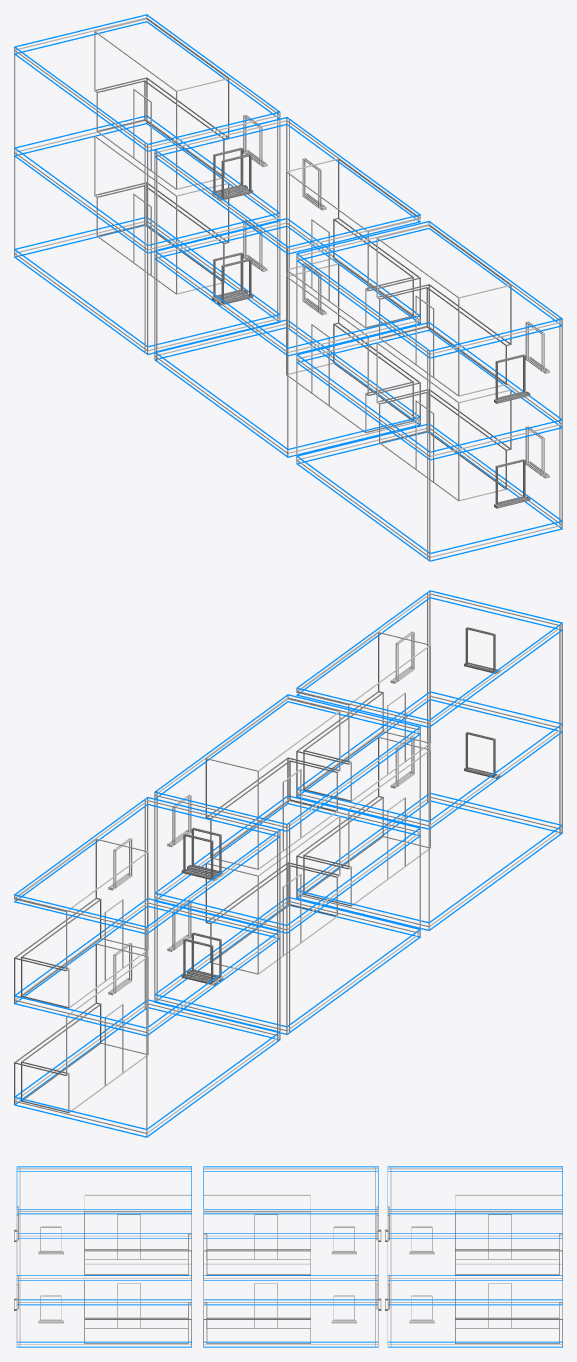
File: wireframebuilding.fbx
3 views of the same model, one above another, from view 1: azimuth 30°, elevation 25°; view 2: azimuth 150°, elevation 25°; view 3: azimuth 270°, elevation 25° (orthographic). The views are drawn at different scales.
Visible parts, largest first — view 1: pCube456, pCube193, pCube306, pCube593, pCube267, pCube443, pCube268, pCube448, pCube266, pCube263, pCube265, pCube264 (+15 smaller); view 2: pCube193, pCube456, pCube306, pCube267, pCube443, pCube593, pCube268, pCube598, pCube596, pCube595, pCube601, pCube600 (+15 smaller); view 3: pCube267, pCube593, pCube443, pCube599, pCube23, pCube601, pCube449, pCube266, pCube451, pCube193, pCube456, pCube306 (+15 smaller).
Boxes of the visible parts, <box> form: pCube456: <box>14,14,280,144</box>; pCube193: <box>296,221,562,351</box>; pCube306: <box>154,117,420,247</box>; pCube593: <box>14,17,279,147</box>; pCube267: <box>296,224,562,354</box>; pCube443: <box>154,120,420,250</box>; pCube268: <box>296,227,562,358</box>; pCube448: <box>154,124,420,254</box>; pCube266: <box>296,423,562,553</box>; pCube263: <box>296,322,562,452</box>; pCube265: <box>296,427,562,557</box>; pCube264: <box>296,329,562,460</box>; pCube193: <box>296,590,562,720</box>; pCube456: <box>14,797,280,927</box>; pCube306: <box>154,694,420,824</box>; pCube267: <box>296,593,562,723</box>; pCube443: <box>155,697,420,827</box>; pCube593: <box>14,800,279,930</box>; pCube268: <box>296,597,562,727</box>; pCube598: <box>14,804,280,934</box>; pCube596: <box>14,898,280,1028</box>; pCube595: <box>14,906,280,1036</box>; pCube601: <box>14,999,280,1130</box>; pCube600: <box>14,1003,280,1133</box>; pCube267: <box>16,1168,191,1211</box>; pCube593: <box>388,1168,562,1211</box>; pCube443: <box>204,1168,377,1211</box>; pCube599: <box>387,1304,562,1347</box>; pCube23: <box>16,1304,191,1347</box>; pCube601: <box>387,1299,562,1342</box>; pCube449: <box>203,1304,378,1347</box>; pCube266: <box>17,1299,191,1342</box>; pCube451: <box>204,1299,378,1342</box>; pCube193: <box>16,1166,191,1209</box>; pCube456: <box>387,1166,562,1209</box>; pCube306: <box>203,1166,378,1209</box>.
Bounding box in the file's own units: 8.27 × 12.2 × 43.8.
